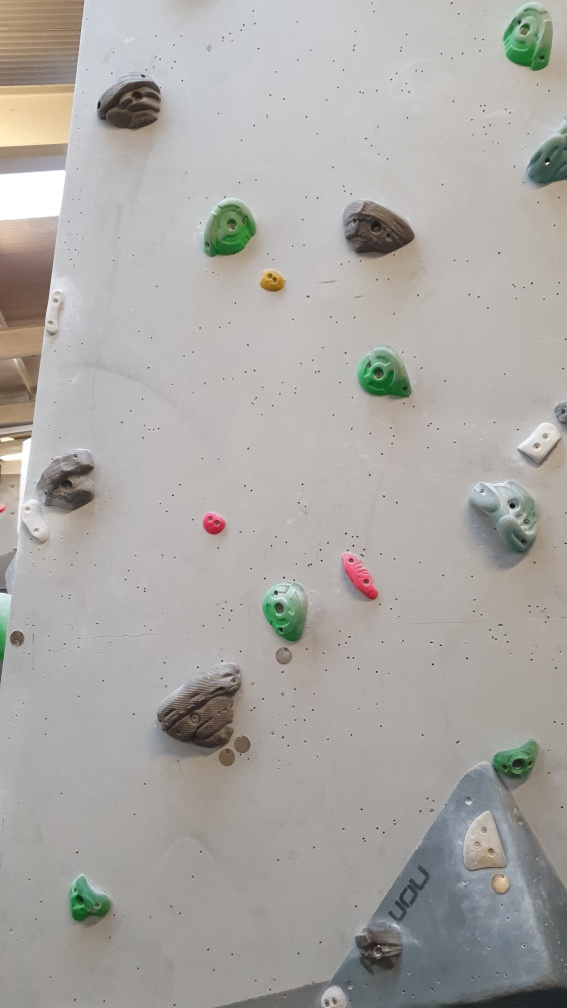Crimp: (340, 545, 379, 600), (516, 422, 560, 465), (41, 287, 67, 336)
Hand Start: (231, 735, 255, 757), (488, 871, 509, 894), (274, 645, 294, 668), (219, 744, 238, 766), (11, 629, 27, 649)
Jug: (156, 662, 240, 753), (465, 475, 540, 560), (341, 197, 417, 260), (500, 1, 556, 82), (94, 71, 167, 132), (200, 193, 264, 261), (39, 449, 100, 514), (260, 579, 311, 649), (359, 345, 416, 399), (494, 737, 539, 787)
